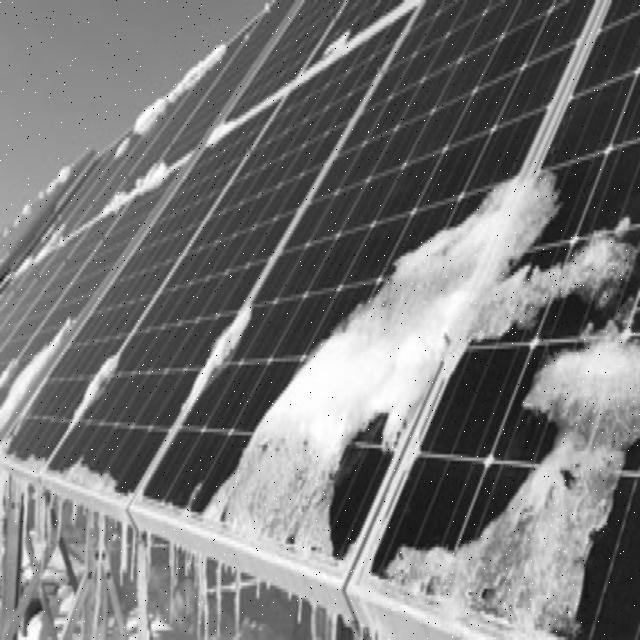snow covered: (131, 9, 632, 622)
